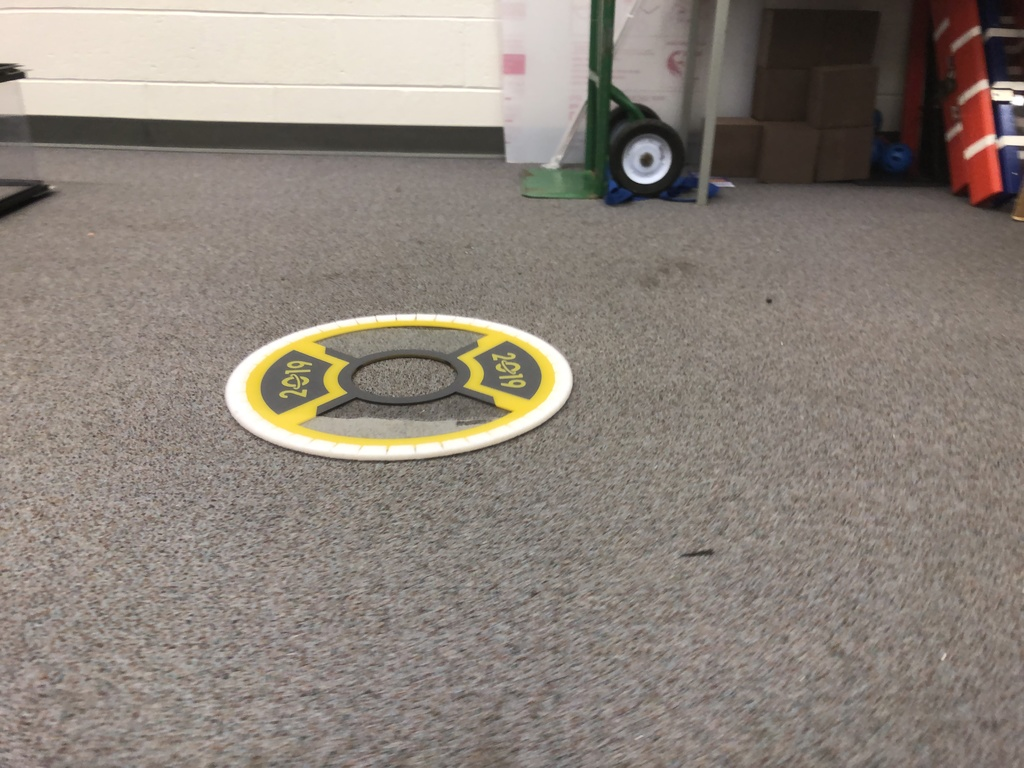hatch_panel: (218, 305, 595, 466)
